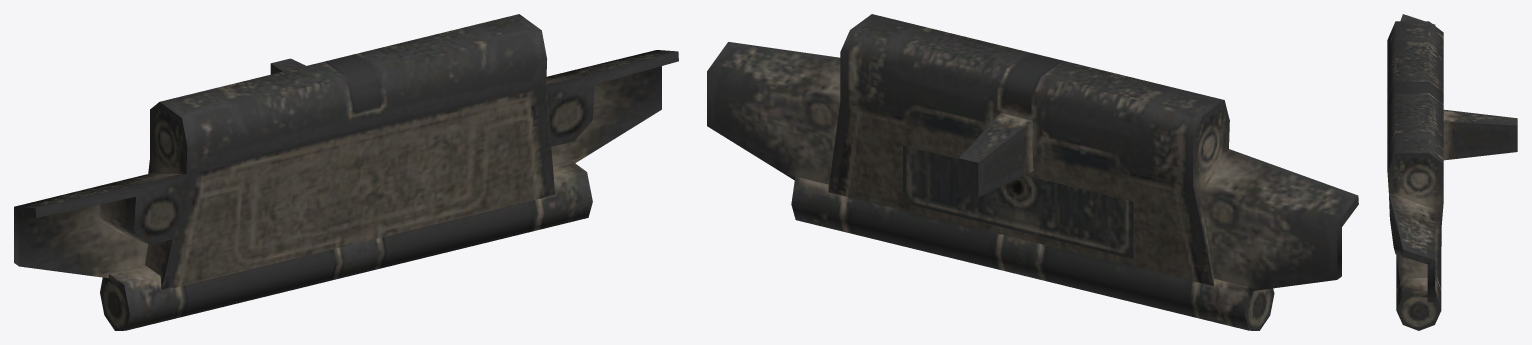
The picture shows the model from 3 angles, left to right: view 1: azimuth 30°, elevation 25°; view 2: azimuth 150°, elevation 25°; view 3: azimuth 270°, elevation 25°; orthographic projection. The views are drawn at different scales.
Visible parts, largest first — view 1: set_0_group_0; view 2: set_0_group_0; view 3: set_0_group_0.
Part boxes in pixels (<box>): set_0_group_0: <box>14,14,678,330</box>; set_0_group_0: <box>707,14,1358,330</box>; set_0_group_0: <box>1387,14,1517,330</box>.
Size of the model in its own units: 0.5 by 0.1573 by 0.1167.
1 material, 1 textured.
